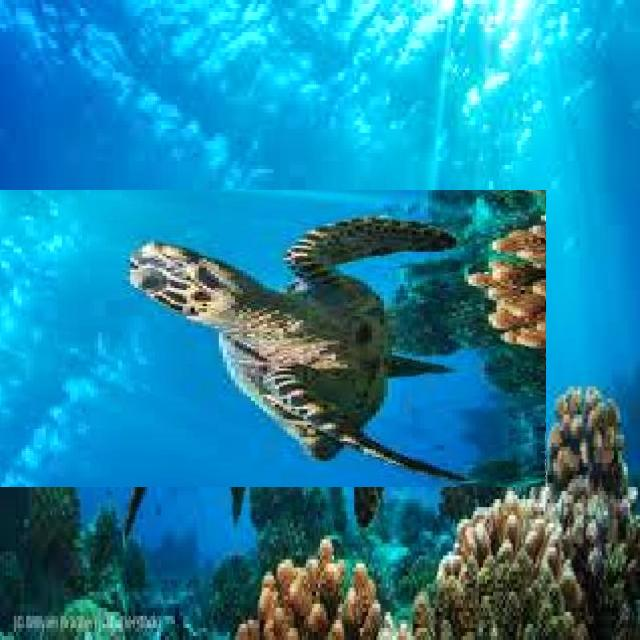Sea turtle: (53, 124, 481, 552)
